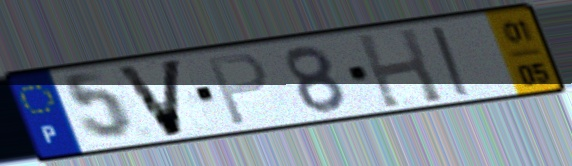5: (56, 67, 141, 146)
8: (283, 43, 349, 116)
H: (352, 25, 447, 110)
I: (426, 23, 477, 99)
P: (204, 50, 272, 129)
V: (111, 56, 187, 140)
